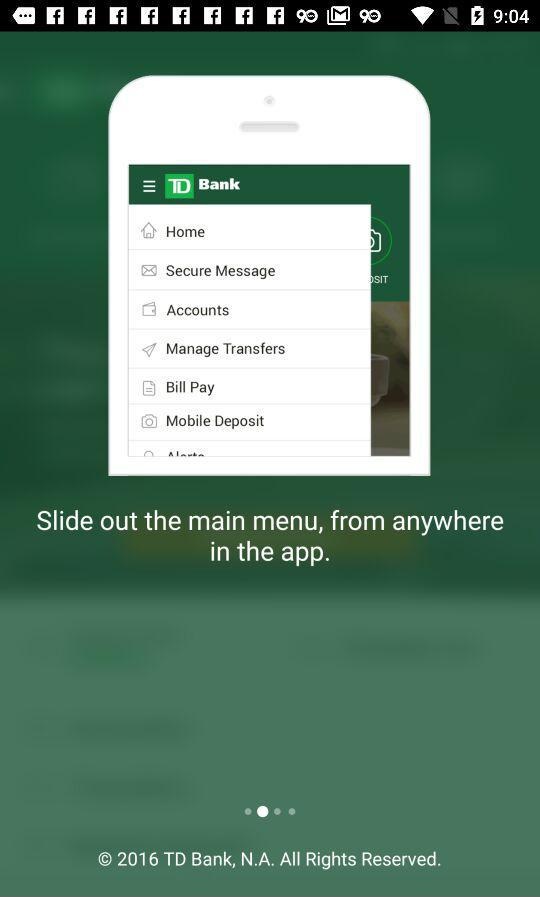Image: (108, 75, 431, 477)
PageIndicator: (244, 804, 297, 819)
Text: (36, 509, 505, 568), (98, 849, 442, 870)
UpperTaskBar: (1, 1, 540, 33)
